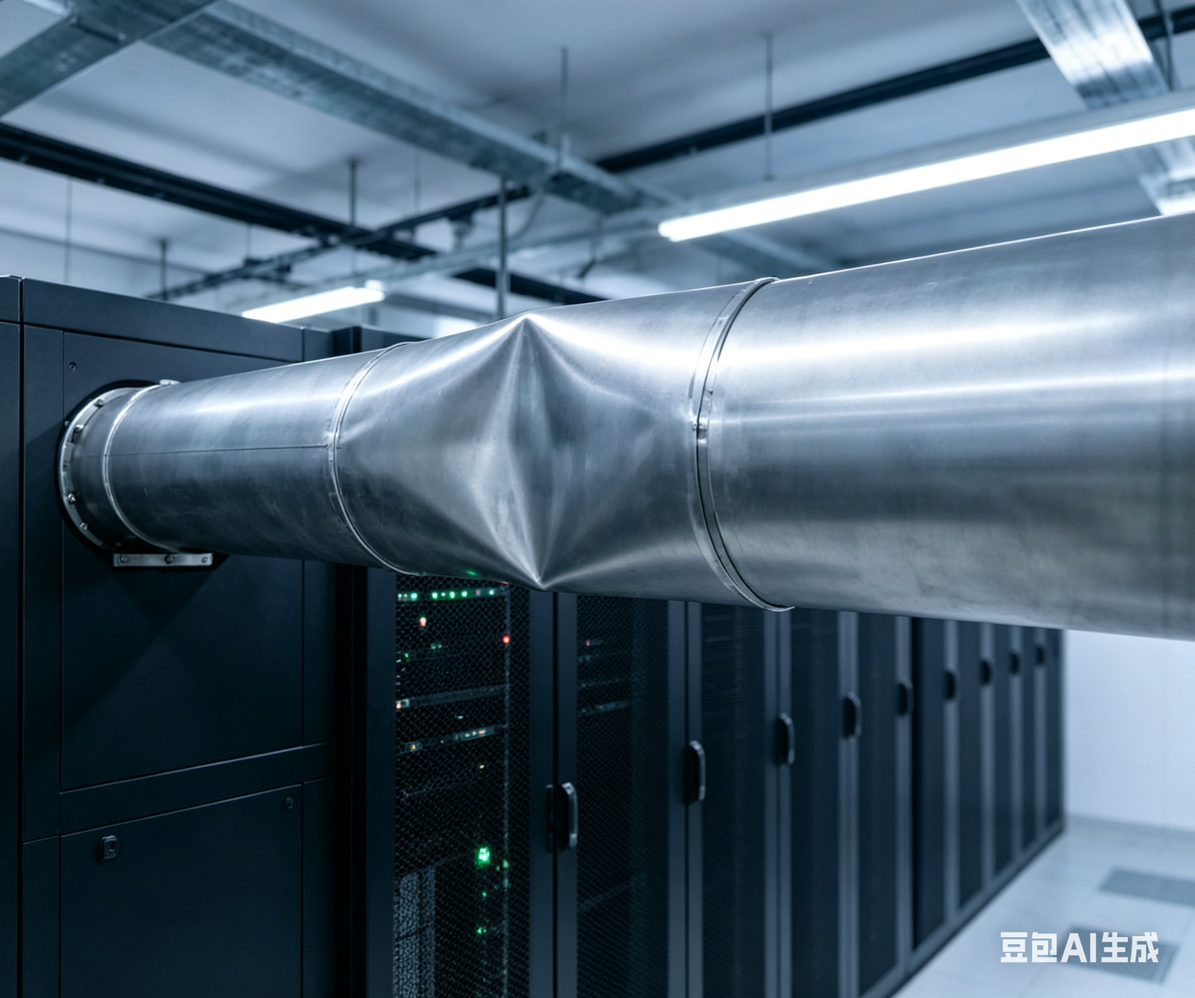Leakage: (380, 312, 670, 602)
